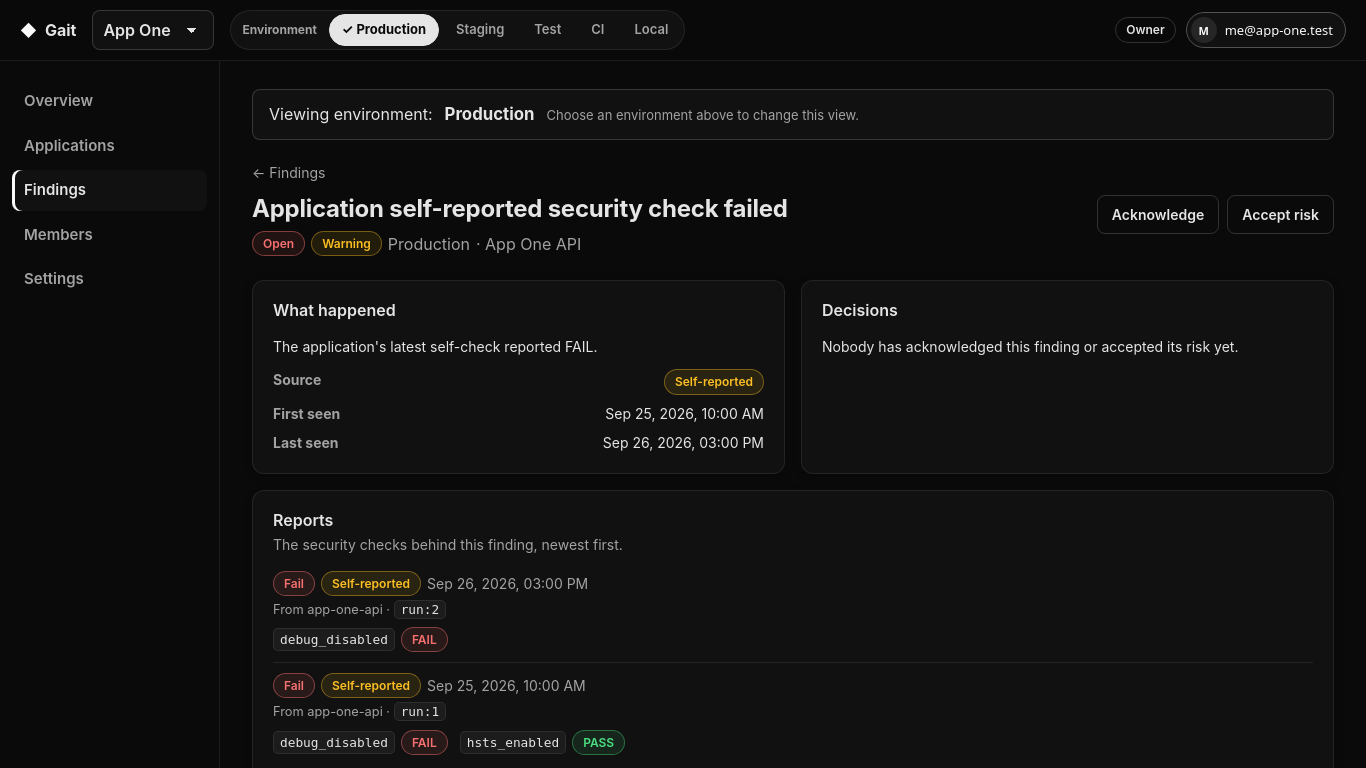
Test case: F3 actions › accepting risk sends the trimmed note and shows the result
Click the button "Accept risk": (1281, 215) 1227,195 -> 1334,234
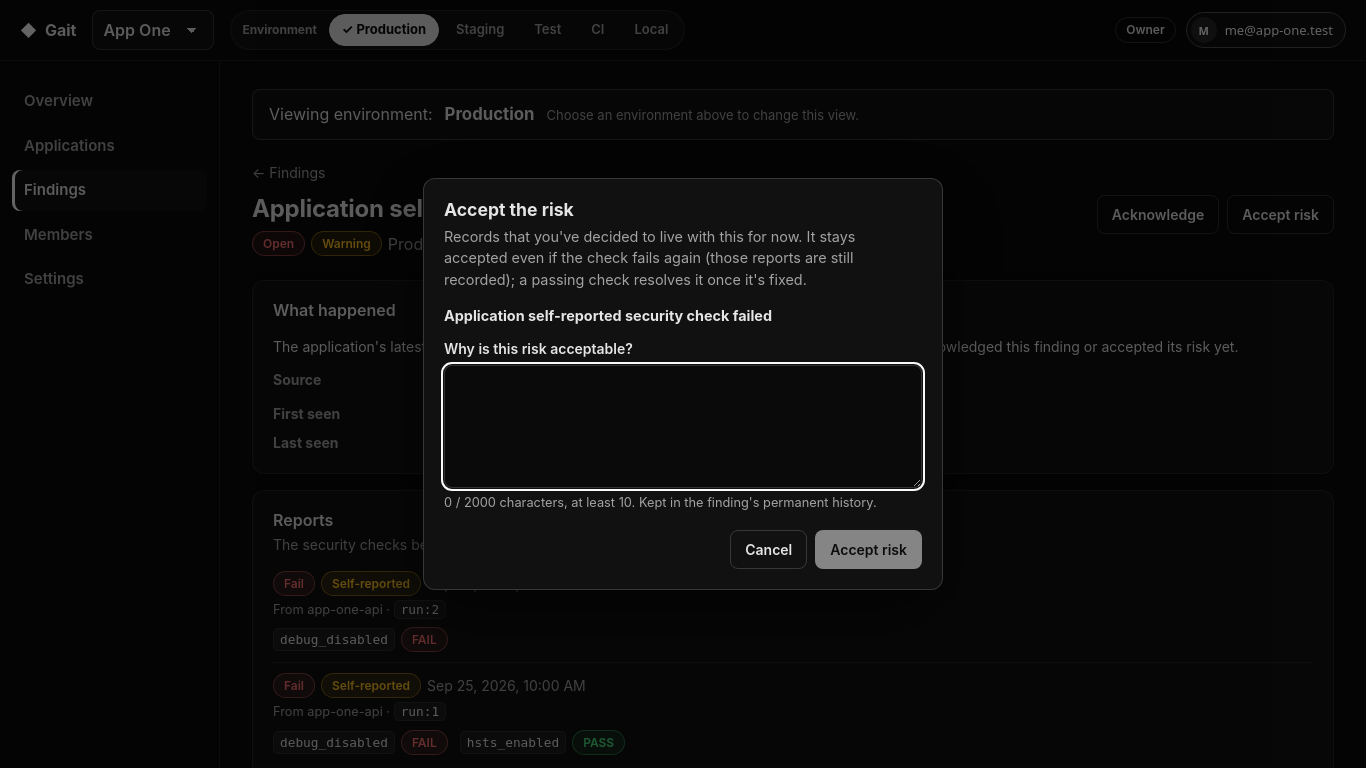
In the text box labelled "Why is this risk acceptable?": (683, 427) 444,365 -> 922,488, type "  Known issue, fix scheduled.  "
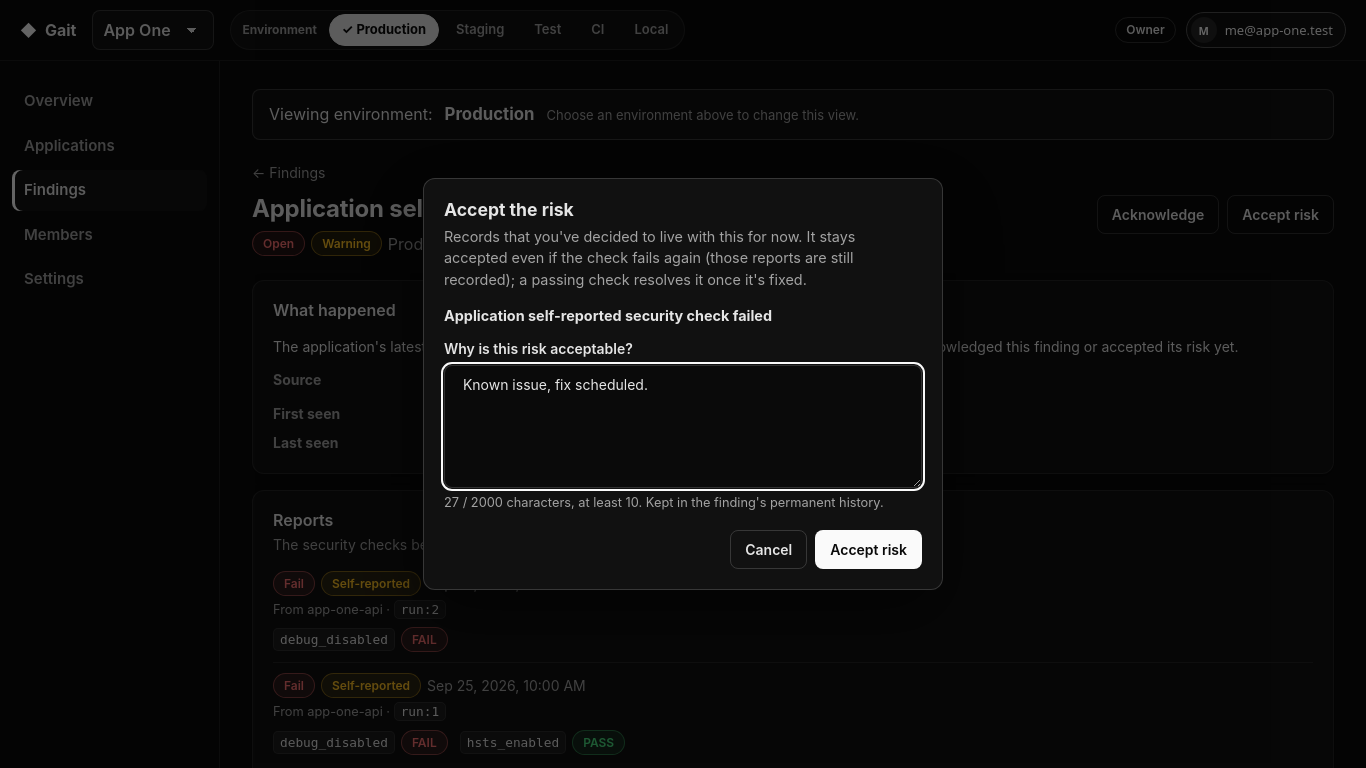
Click the button "Accept risk": (869, 550) 815,530 -> 922,569
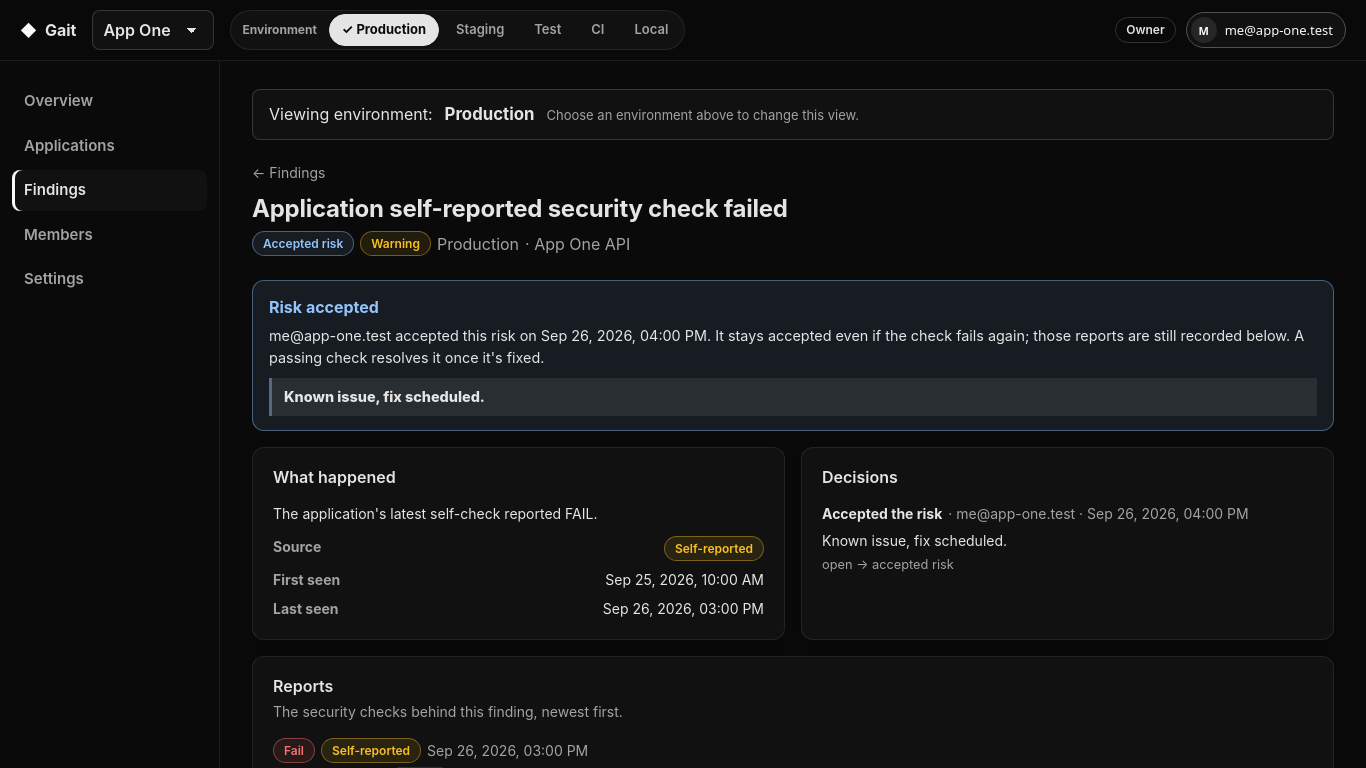
Now the element "Risk accepted" is shown, box 252,280 -> 1334,431
Now the dialog is gone
